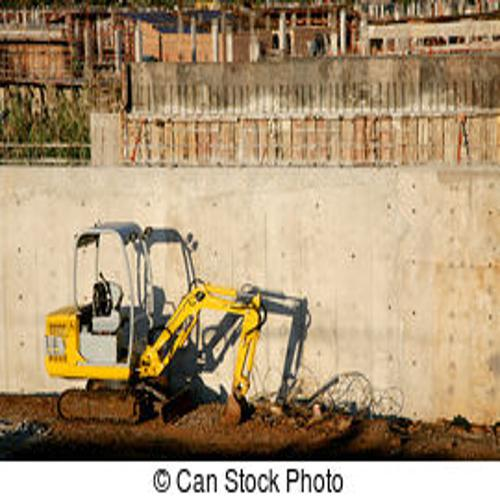con_eq: (43, 221, 309, 426)
